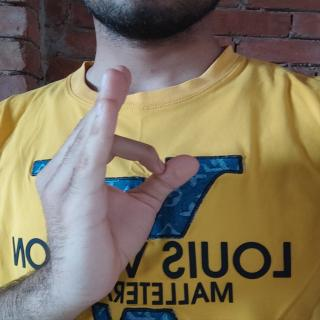Space: (19, 59, 200, 320)
